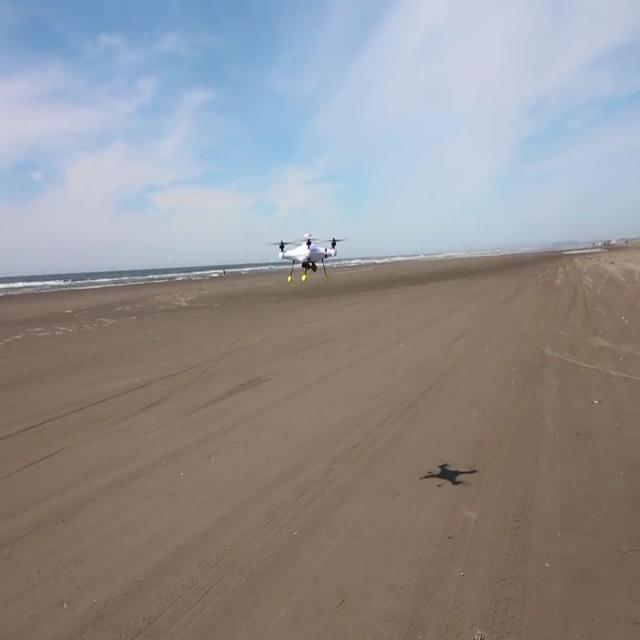UAV: (270, 233, 345, 283)
